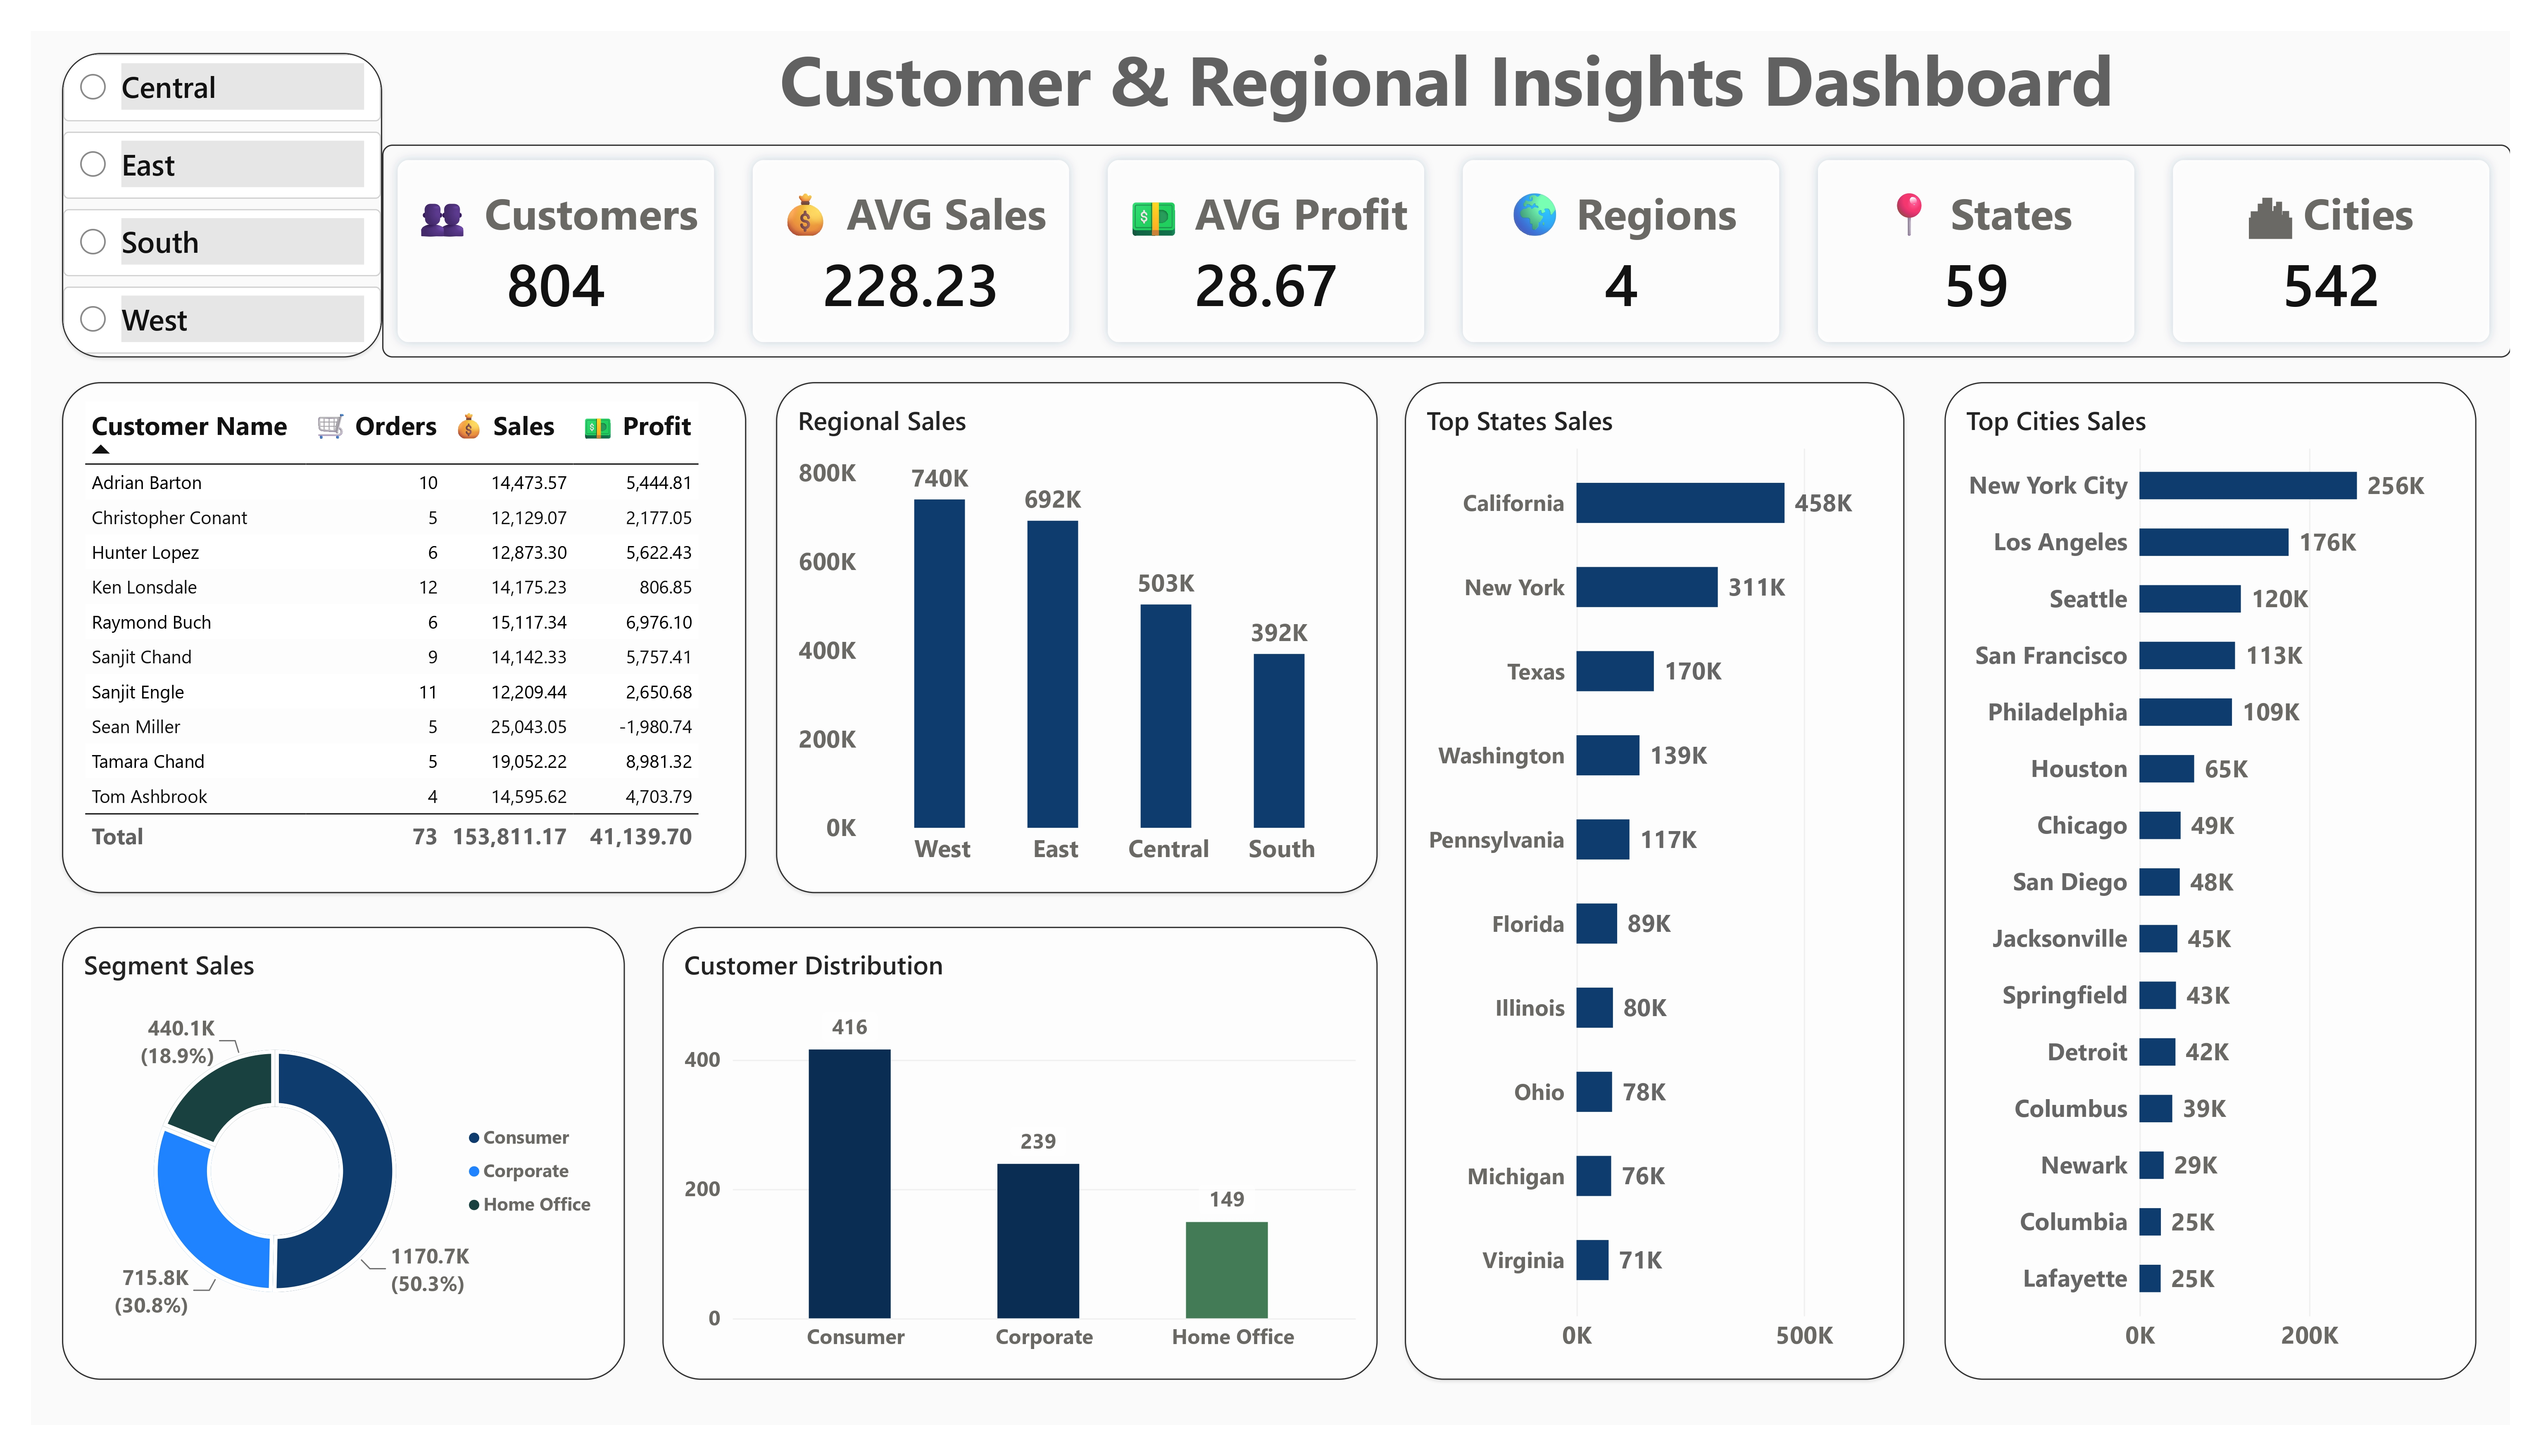

What the dashboard file says about the page in this screenshot:
{"tool":"powerbi","page":{"name":"Customer & Regional Insights Dashboard","canvas":[1920,1080],"ordinal":2},"visuals":[{"type":"textbox","box":[272,0,1648.7,88.3],"z":1},{"type":"cardVisual","fields":{"Data":["Orders$.👥 Customers","Orders$.💰 AVG Sales","Orders$.💵 AVG Profit","Orders$.🌍 Regions","Orders$.📍 States","Orders$.🏙 Cities"]},"box":[272,88.3,1648.7,164.6],"z":2},{"type":"clusteredColumnChart","title":"Regional Sales","fields":{"Category":["Orders$.Region"],"Y":["Orders$.💰 Sales"]},"box":[577.4,272,465.3,396.1],"z":3},{"type":"donutChart","title":"Segment Sales","fields":{"Category":["Orders$.Segment"],"Y":["Orders$.💰 Sales"]},"box":[23.9,694.3,436.6,350.7],"z":4},{"type":"tableEx","fields":{"Values":["Orders$.Customer Name","Orders$.🛒 Orders","Orders$.💰 Sales","Orders$.💵 Profit"]},"box":[23.9,272,529.7,396.1],"z":5},{"type":"clusteredBarChart","title":"Top States Sales","fields":{"Category":["Orders$.State/Province"],"Y":["Orders$.💰 Sales"]},"box":[1064.1,272,386.5,773],"z":6},{"type":"clusteredBarChart","title":"Top Cities Sales","fields":{"Category":["Orders$.City"],"Y":["Orders$.💰 Sales"]},"box":[1481.7,272,412.8,773],"z":7},{"type":"lineClusteredColumnComboChart","title":"Customer Distribution","fields":{"Category":["Orders$.Segment"],"Y":["Orders$.👥 Customers"]},"box":[489.1,694.3,553.5,350.7],"z":8},{"type":"advancedSlicerVisual","fields":{"Values":["Orders$.Region"]},"box":[23.9,16.7,248.1,236.2],"z":9}]}

Visuals, with their boxes on the page's 1920x1080 design canvas (x1, y1, x2, y2). These are canvas units, not pixel positions in the 2541x1456 screenshot, which may show the page scaled, cropped or inside an application window:
textbox: x1=272 y1=0 x2=1921 y2=88
cardVisual - Orders$.👥 Customers x Orders$.💰 AVG Sales: x1=272 y1=88 x2=1921 y2=253
"Regional Sales" clusteredColumnChart: x1=577 y1=272 x2=1043 y2=668
"Segment Sales" donutChart: x1=24 y1=694 x2=460 y2=1045
tableEx - Orders$.Customer Name x Orders$.🛒 Orders: x1=24 y1=272 x2=554 y2=668
"Top States Sales" clusteredBarChart: x1=1064 y1=272 x2=1451 y2=1045
"Top Cities Sales" clusteredBarChart: x1=1482 y1=272 x2=1894 y2=1045
"Customer Distribution" lineClusteredColumnComboChart: x1=489 y1=694 x2=1043 y2=1045
advancedSlicerVisual - Orders$.Region: x1=24 y1=17 x2=272 y2=253
